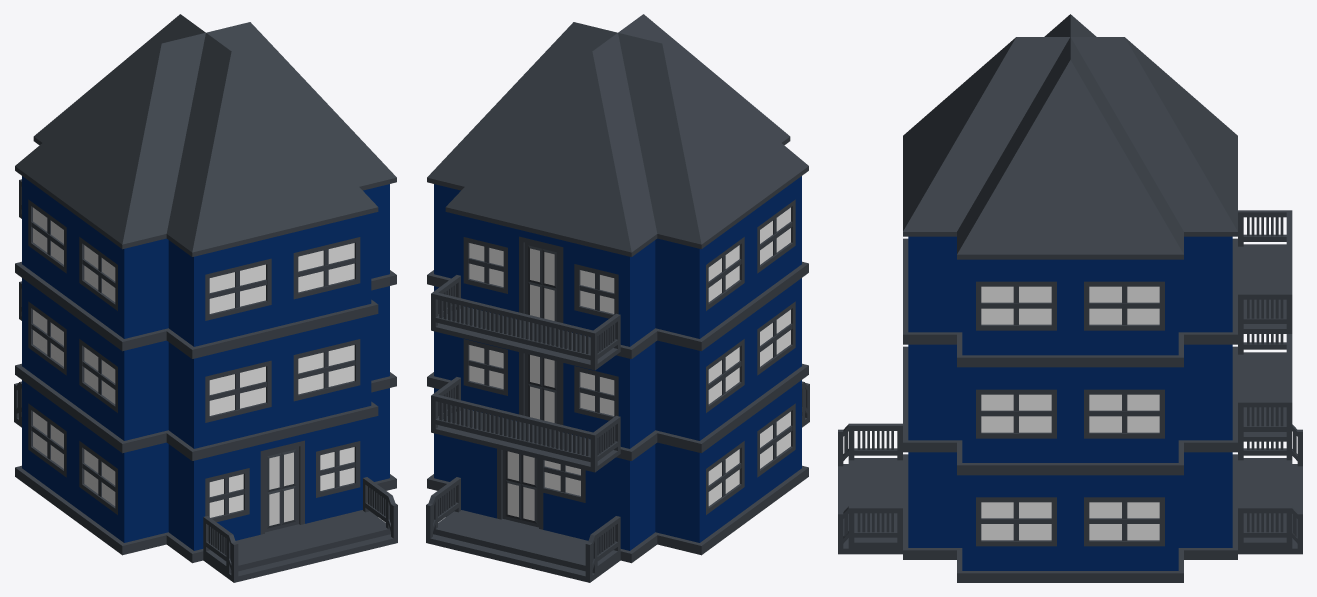
The model's file is small apartment.fbx.
3 renders of one model, left to right at view 1: azimuth 30°, elevation 25°; view 2: azimuth 150°, elevation 25°; view 3: azimuth 270°, elevation 25°, orthographic. The views are drawn at different scales.
Visible parts, largest first — view 1: building_001; view 2: building_001; view 3: building_001.
Boxes of the visible parts, x1,y1,x2,y2 form: building_001: (14,14,397,582); building_001: (426,14,809,582); building_001: (838,14,1302,582).
Size of the model in its own units: 620 by 970 by 860.
